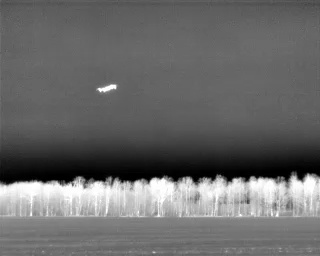DRONE: (93, 79, 121, 98)
